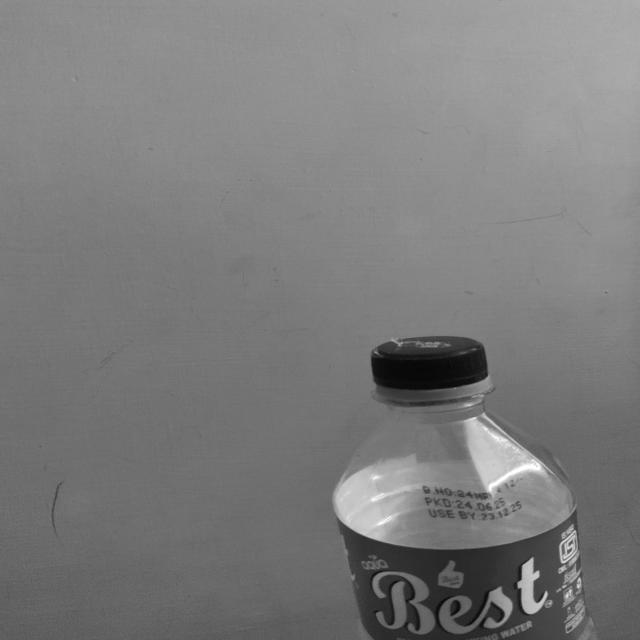Good-cap-Df0S: (368, 334, 492, 402)
